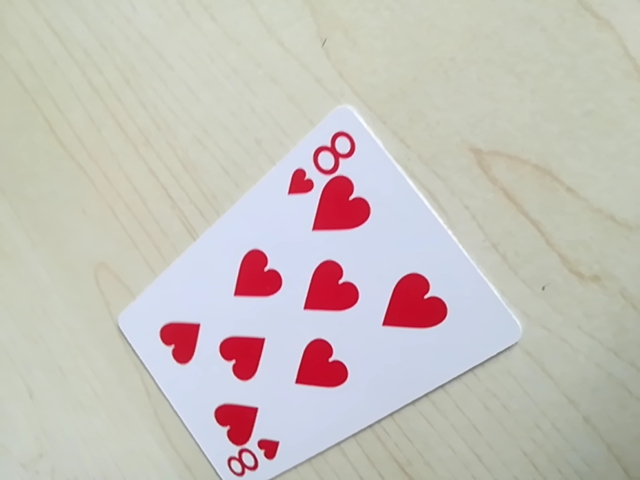hx 8: (294, 122, 363, 186), (218, 434, 280, 480)
